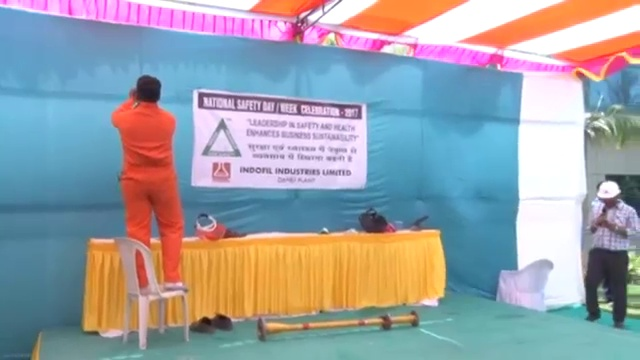helmet: (595, 179, 623, 200)
helmet_off: (132, 74, 161, 107)
helmet_on: (595, 178, 625, 211)
person: (112, 76, 189, 294), (583, 177, 640, 328)
